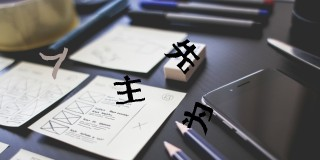为: (178, 100, 215, 138)
主: (112, 72, 145, 105)
先: (165, 38, 200, 74)
入: (38, 45, 67, 80)
